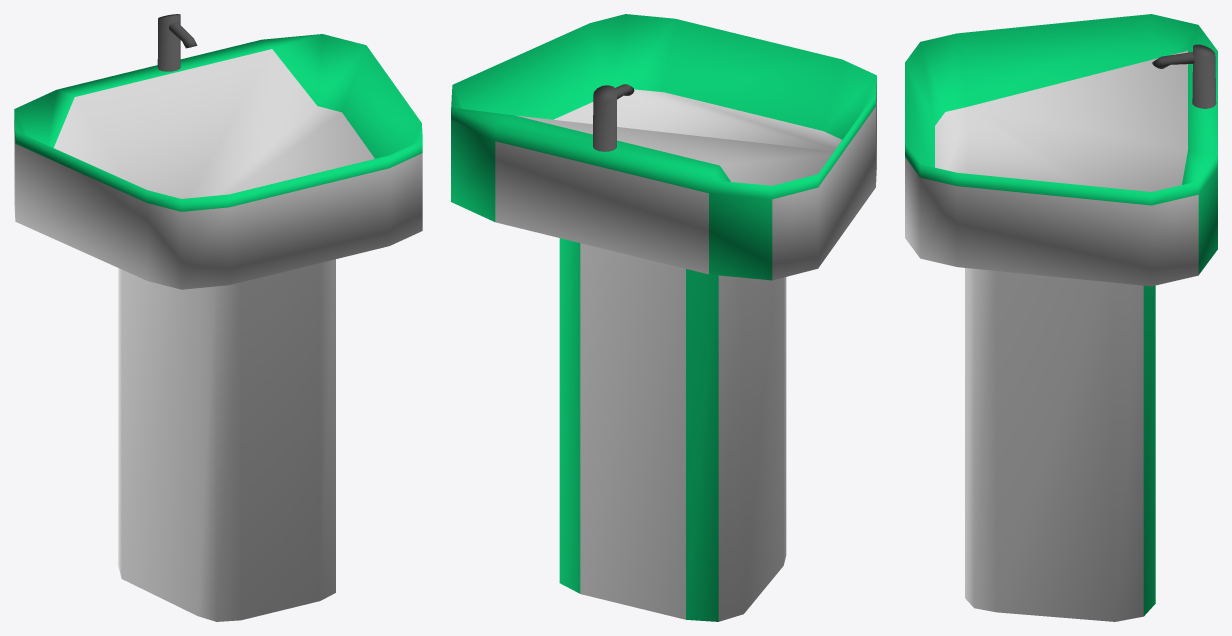
File: sink.fbx
The picture shows the model from 3 angles, left to right: view 1: azimuth 30°, elevation 25°; view 2: azimuth 150°, elevation 25°; view 3: azimuth 270°, elevation 25°; orthographic projection. The views are drawn at different scales.
Visible parts, largest first — view 1: Plane; view 2: Plane; view 3: Plane.
Part boxes in pixels (x1=…): Plane: x1=14, y1=14, x2=422, y2=621; Plane: x1=451, y1=14, x2=876, y2=621; Plane: x1=905, y1=14, x2=1217, y2=621.
Size of the model in its own units: 269 by 375 by 200.
